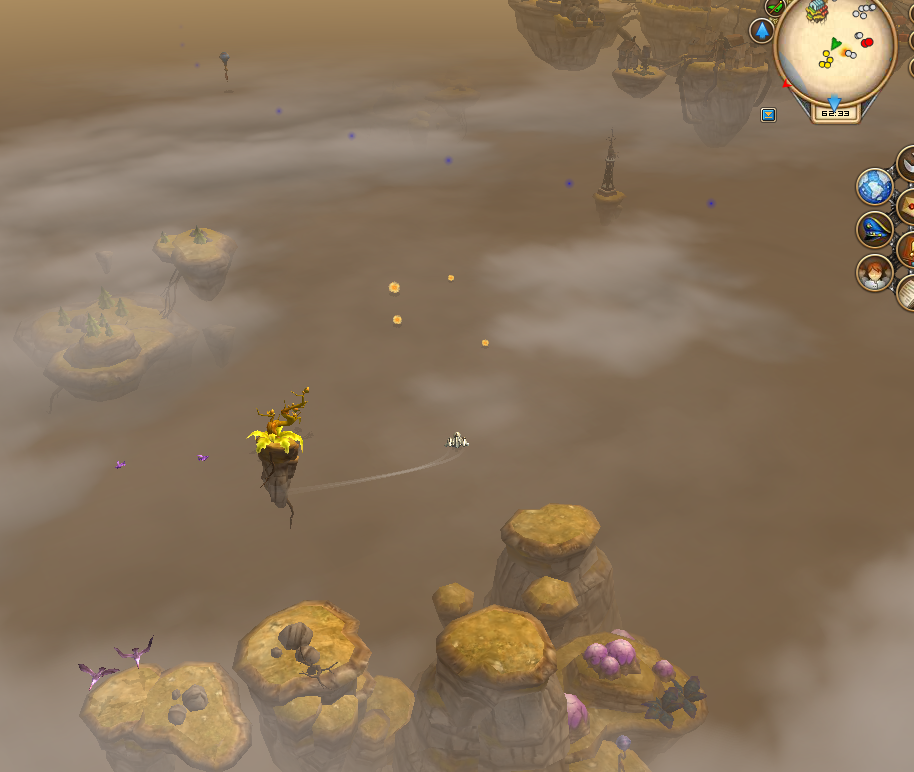dandelion-empty: (246, 387, 317, 506)
fluff: (384, 276, 403, 297), (390, 310, 404, 326), (479, 337, 491, 350), (444, 271, 455, 284)
